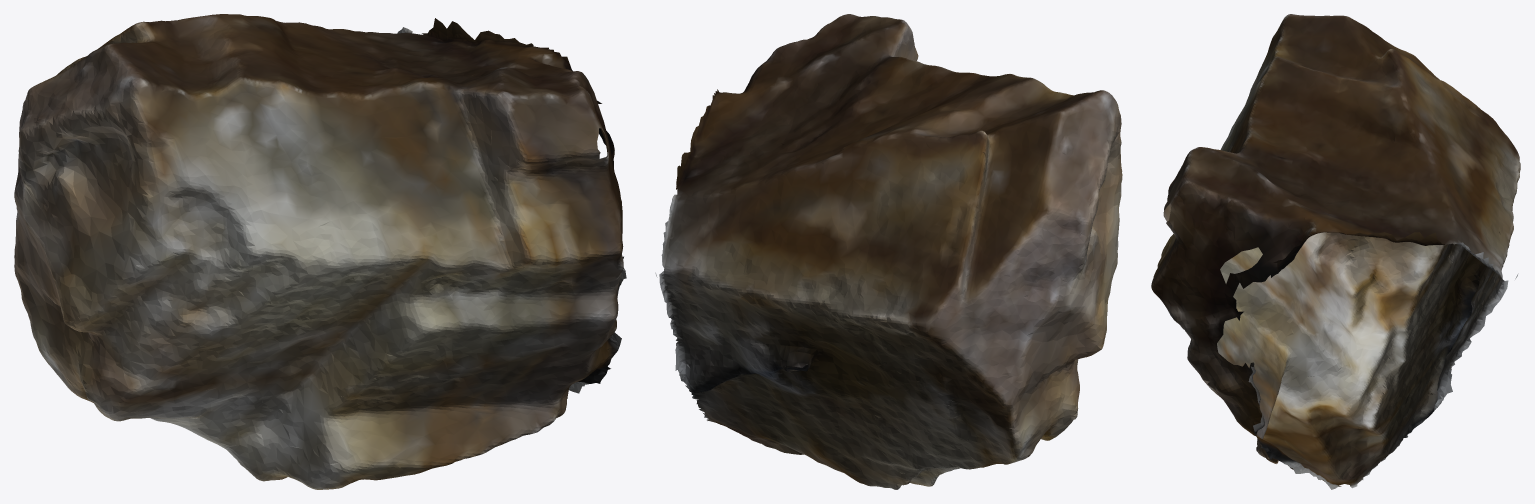
Rendered from gemrock.obj.
3 renders of one model, left to right at view 1: azimuth 30°, elevation 25°; view 2: azimuth 150°, elevation 25°; view 3: azimuth 270°, elevation 25°, orthographic. The views are drawn at different scales.
Bounding box in the file's own units: 2.48 × 2.27 × 2.19.
